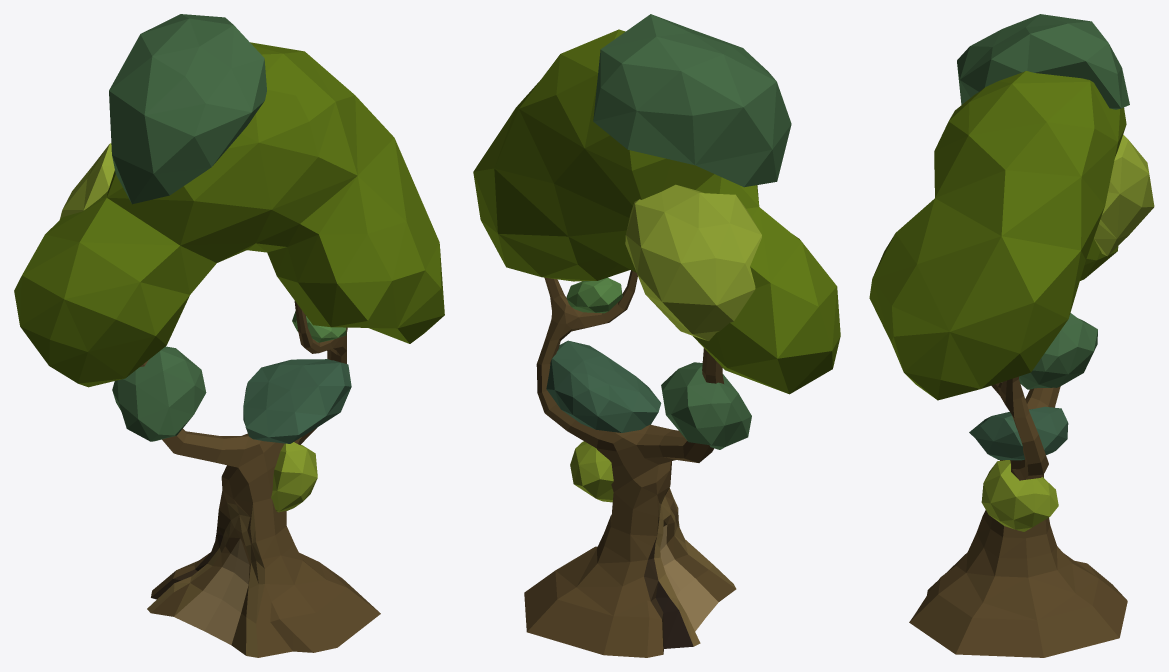
The model's file is EM_Tree2a.fbx.
3 views of the same model, side by side, from view 1: azimuth 30°, elevation 25°; view 2: azimuth 150°, elevation 25°; view 3: azimuth 270°, elevation 25° (orthographic). The views are drawn at different scales.
Visible parts, largest first — view 1: EM_Tree2a_LOD0; view 2: EM_Tree2a_LOD0; view 3: EM_Tree2a_LOD0.
Boxes of the visible parts, <box> form: EM_Tree2a_LOD0: <box>14,14,444,657</box>; EM_Tree2a_LOD0: <box>473,14,840,657</box>; EM_Tree2a_LOD0: <box>869,14,1154,657</box>.
Size of what is drawn, in the model's own units: 6.6 by 10.14 by 4.58.
